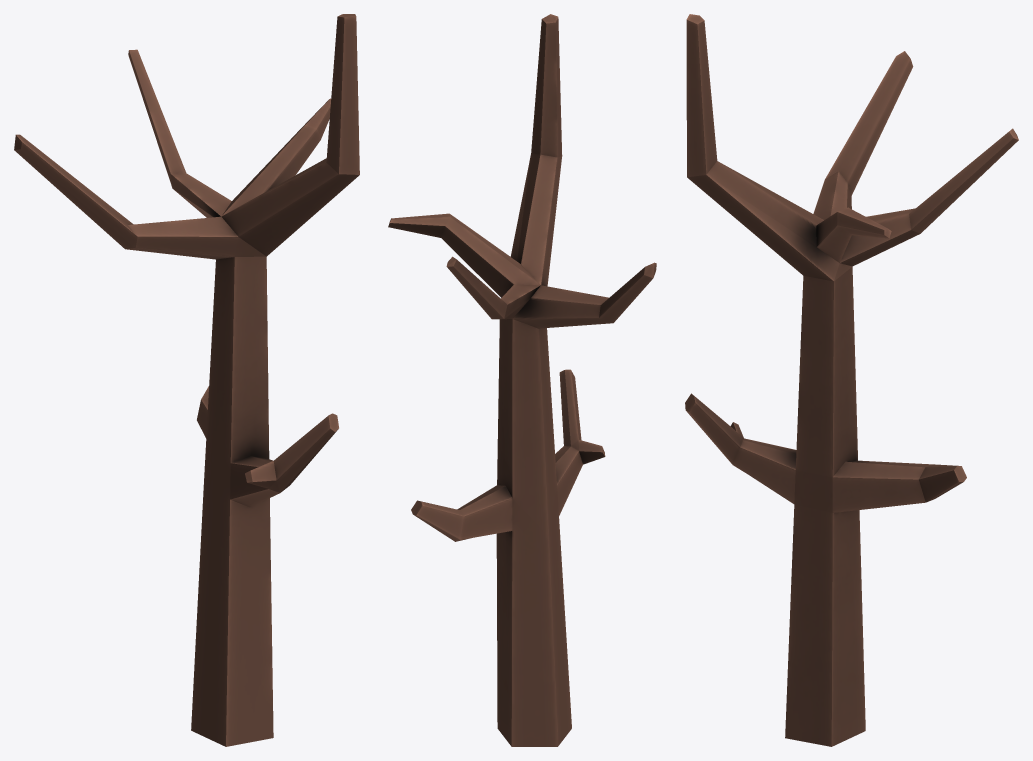
The model's file is Tree_10.fbx.
3 renders of one model, left to right at view 1: azimuth 30°, elevation 25°; view 2: azimuth 150°, elevation 25°; view 3: azimuth 270°, elevation 25°, orthographic. The views are drawn at different scales.
Visible parts, largest first — view 1: Tree_10; view 2: Tree_10; view 3: Tree_10.
Boxes of the visible parts, <box> form: Tree_10: <box>14,14,359,746</box>; Tree_10: <box>388,14,656,746</box>; Tree_10: <box>685,14,1018,746</box>.
Bounding box in the file's own units: 42.78 × 99.01 × 40.78.
